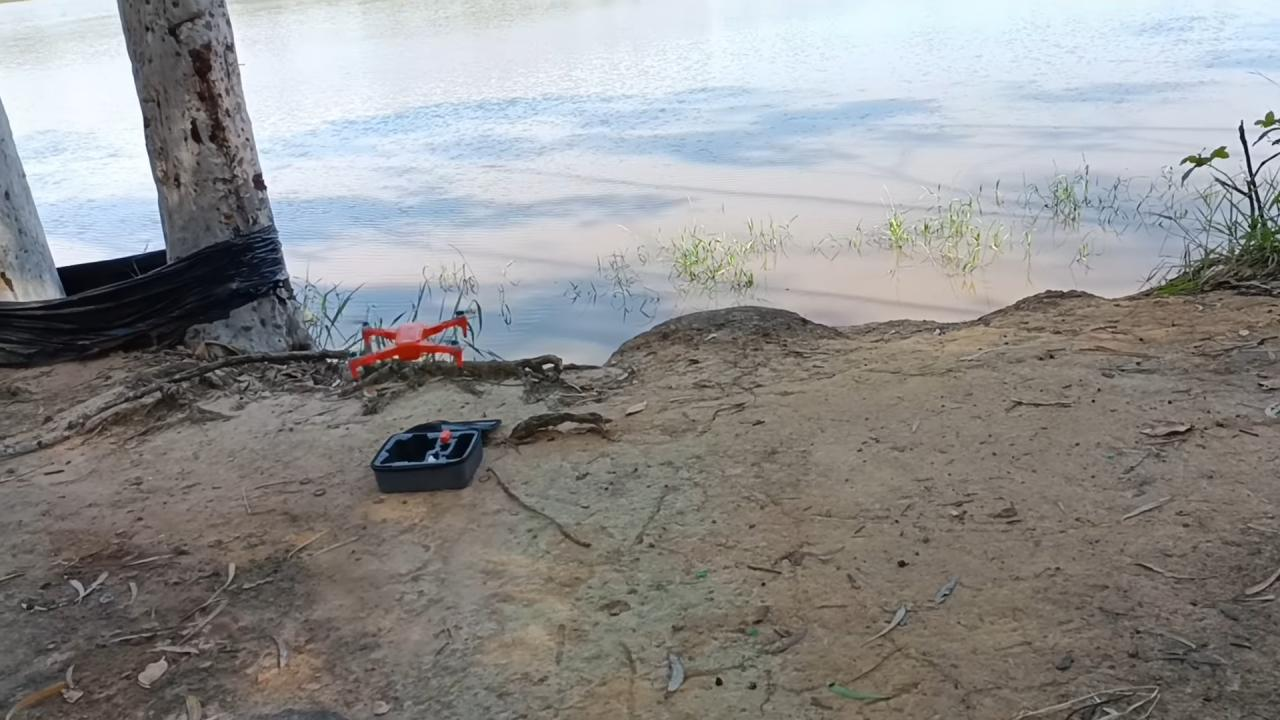Drone: (342, 305, 483, 384)
